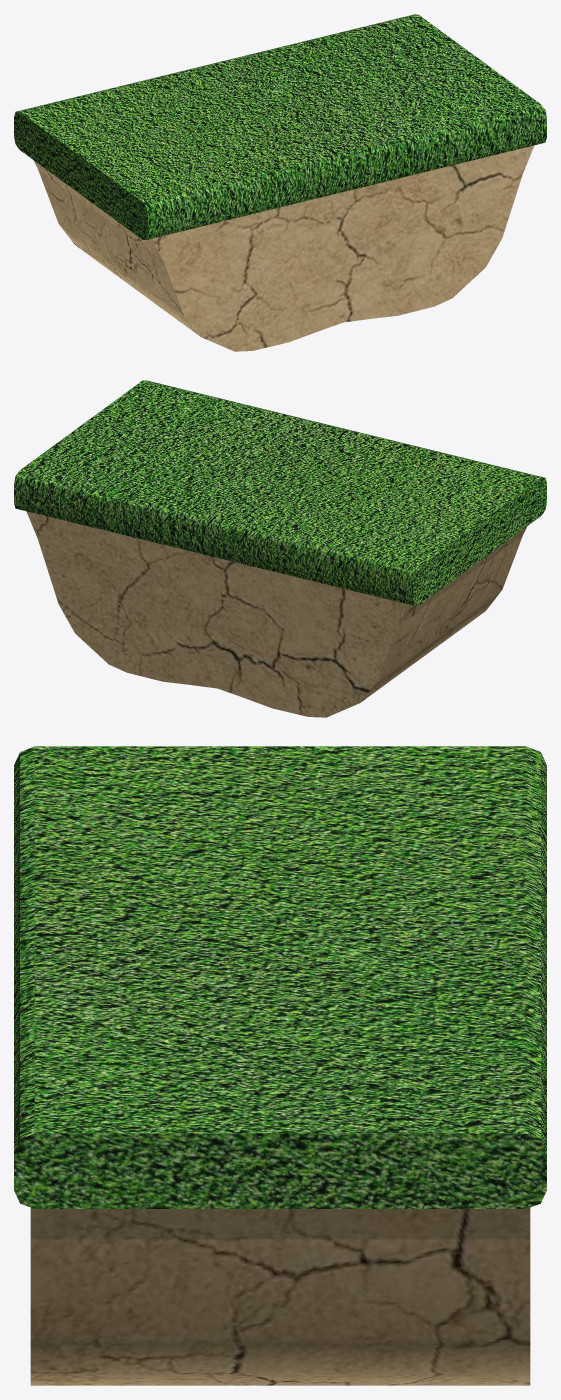
The model's file is plataformaCamello.fbx.
The picture shows the model from 3 angles, top to bottom: view 1: azimuth 30°, elevation 25°; view 2: azimuth 150°, elevation 25°; view 3: azimuth 270°, elevation 25°; orthographic projection. The views are drawn at different scales.
Visible parts, largest first — view 1: tapaPlataformaCamello, plataformaCamello1; view 2: tapaPlataformaCamello, plataformaCamello1; view 3: tapaPlataformaCamello, plataformaCamello1.
Part boxes in pixels (box(x1,y1,x2,y2)): tapaPlataformaCamello: box(14, 14, 546, 239); plataformaCamello1: box(33, 145, 534, 351); tapaPlataformaCamello: box(14, 380, 546, 605); plataformaCamello1: box(26, 511, 527, 717); tapaPlataformaCamello: box(14, 746, 546, 1208); plataformaCamello1: box(30, 1208, 530, 1385).
Size of the model in its own units: 5.5 by 2.3 by 3.2.
